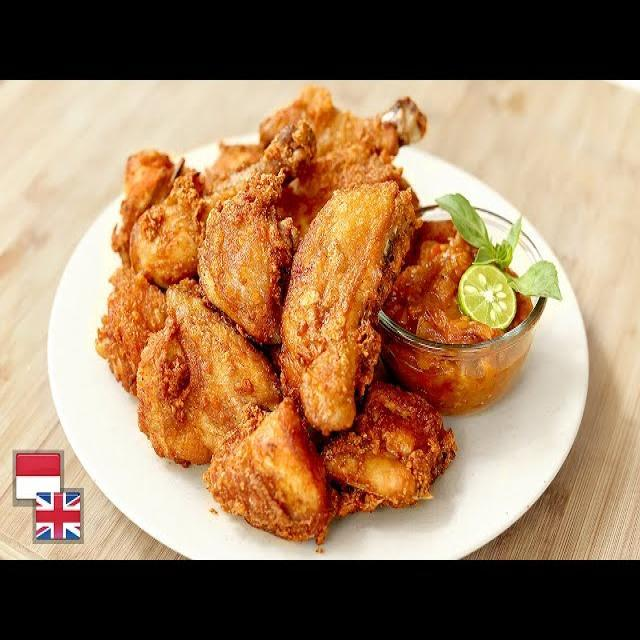ayam_goreng: (87, 79, 464, 518)
